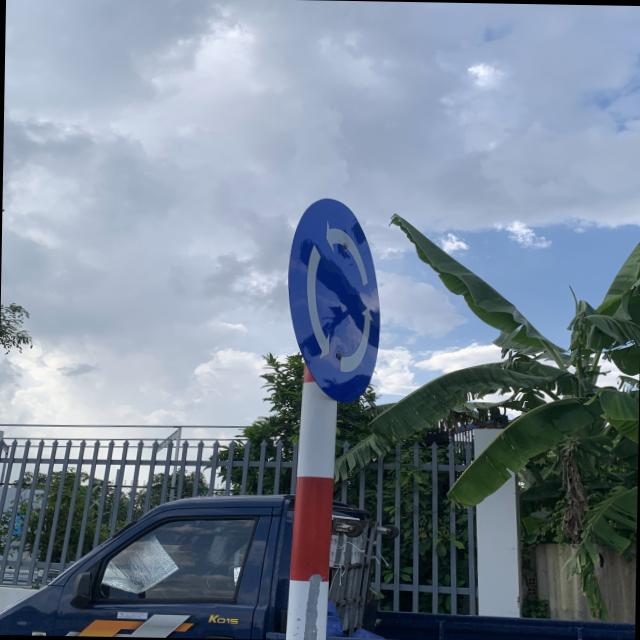Xe_Bus: (286, 196, 383, 402)
